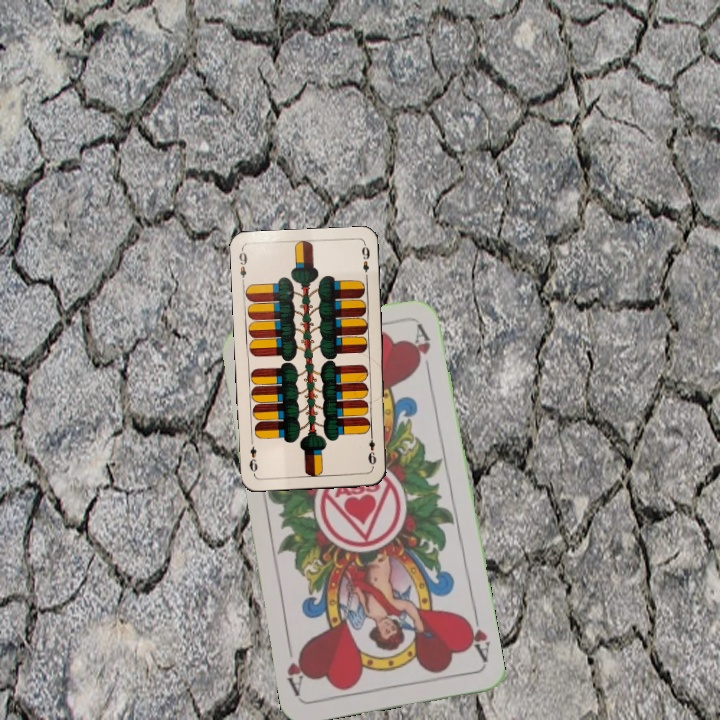E9: (235, 246, 250, 287), (364, 429, 378, 470)
HA: (460, 607, 493, 665)
